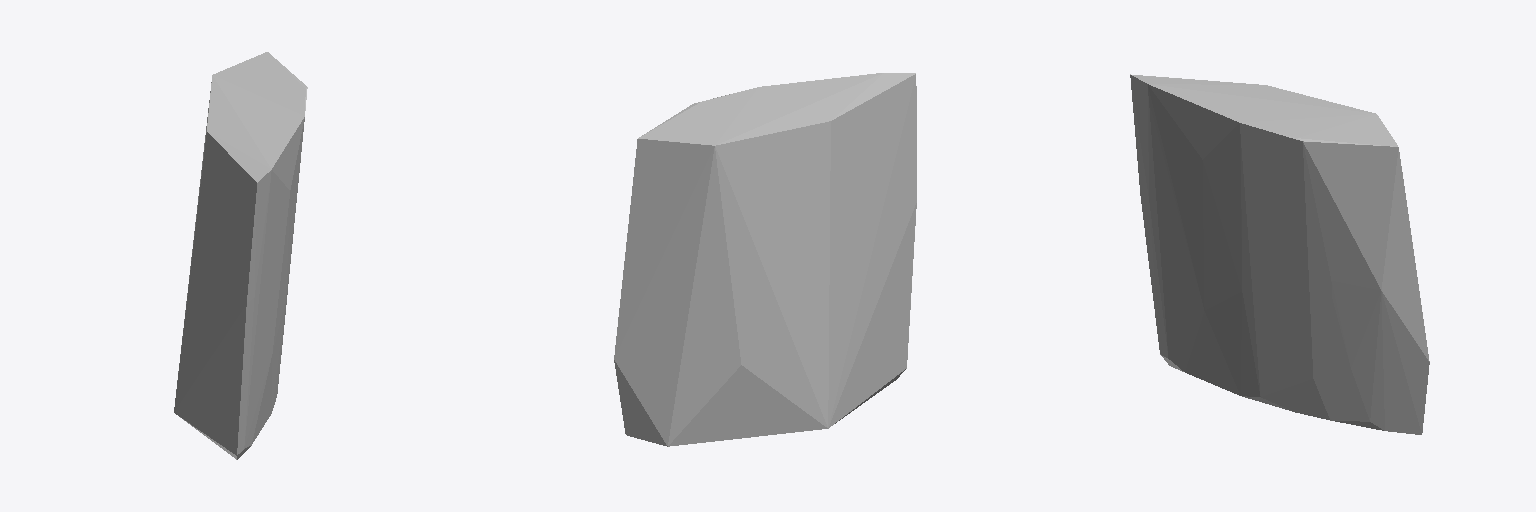
The model's file is trash_bin_collision_24.obj.
The picture shows the model from 3 angles: view 1: azimuth 30°, elevation 25°; view 2: azimuth 150°, elevation 25°; view 3: azimuth 270°, elevation 25°; orthographic projection.
Size of the model in its own units: 0.033 by 0.0588 by 0.0541.